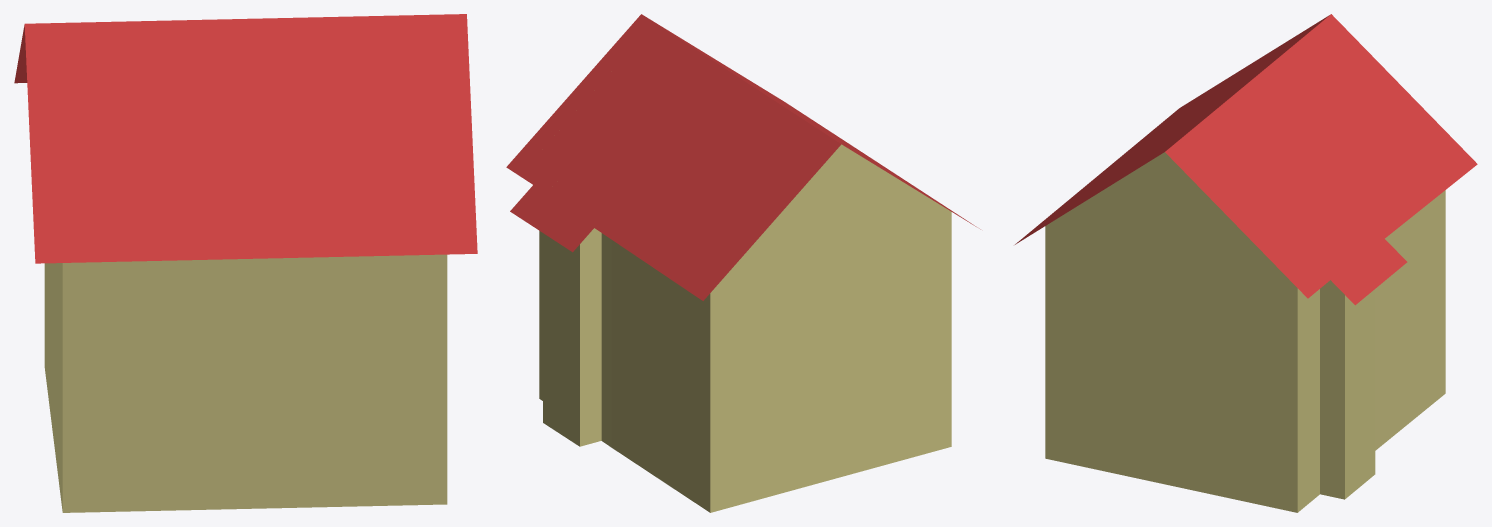
The picture shows the model from 3 angles, left to right: view 1: azimuth 30°, elevation 25°; view 2: azimuth 150°, elevation 25°; view 3: azimuth 270°, elevation 25°; orthographic projection. The views are drawn at different scales.
Size of the model in its own units: 14.99 by 14.61 by 11.92.
